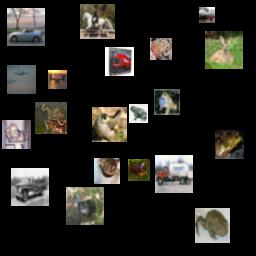airplane: (7, 65, 36, 94), (48, 70, 67, 89), (199, 7, 215, 23)
automobile: (7, 8, 45, 46)
bird: (66, 187, 104, 225), (92, 107, 127, 142), (128, 159, 150, 181)
cat: (2, 120, 31, 149)
deer: (205, 31, 243, 69)
frog: (195, 208, 230, 243), (35, 102, 67, 134), (215, 130, 244, 159), (154, 89, 180, 115), (94, 158, 120, 184), (150, 38, 172, 60), (129, 104, 148, 123)
truck: (155, 155, 193, 193), (11, 168, 49, 206), (105, 47, 134, 76)
